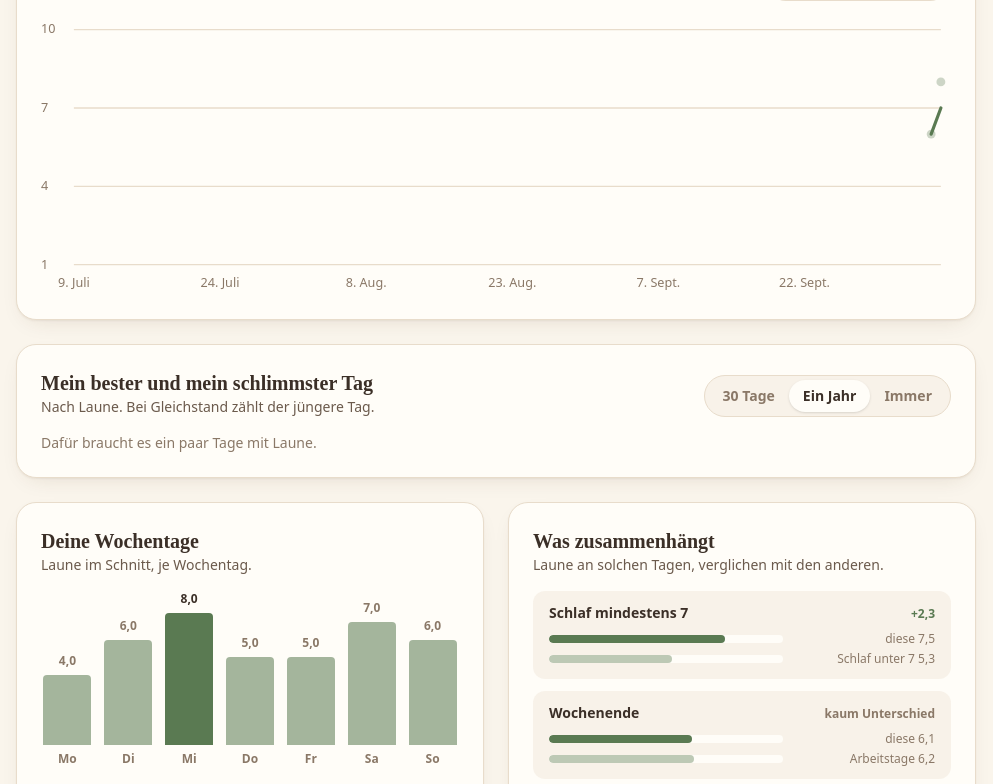
Scenario: the best and the worst day › shows both for the span asked, the younger tie being the server's business
(page scrolled)
Expected: the element that starts with "Mein bester und mein schlimmster Tag" shows "Dafür braucht es ein paar Tage mit Laune.", [41,433,317,452]
Click the radio button labelled "30 Tage" in the row of "Mein bester und mein schlimmster Tag" at [749, 396], box [709,380,789,412]
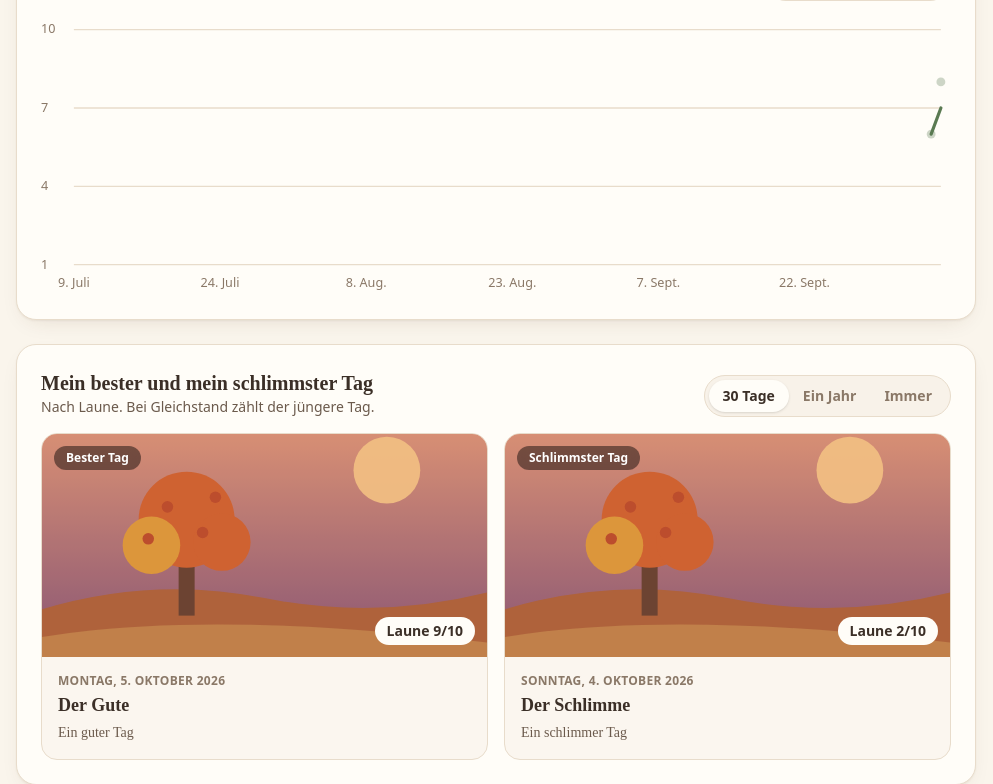
Expected: the link that starts with "Bester Tag" is shown, [41,433,488,760]
Expected: the link that starts with "Bester Tag" shows "Laune 9/10", [41,433,488,760]
Expected: the link that starts with "Bester Tag" shows "Der Gute", [41,433,488,760]
Click the radio button labelled "Immer" at [908, 396], box [870,380,946,412]
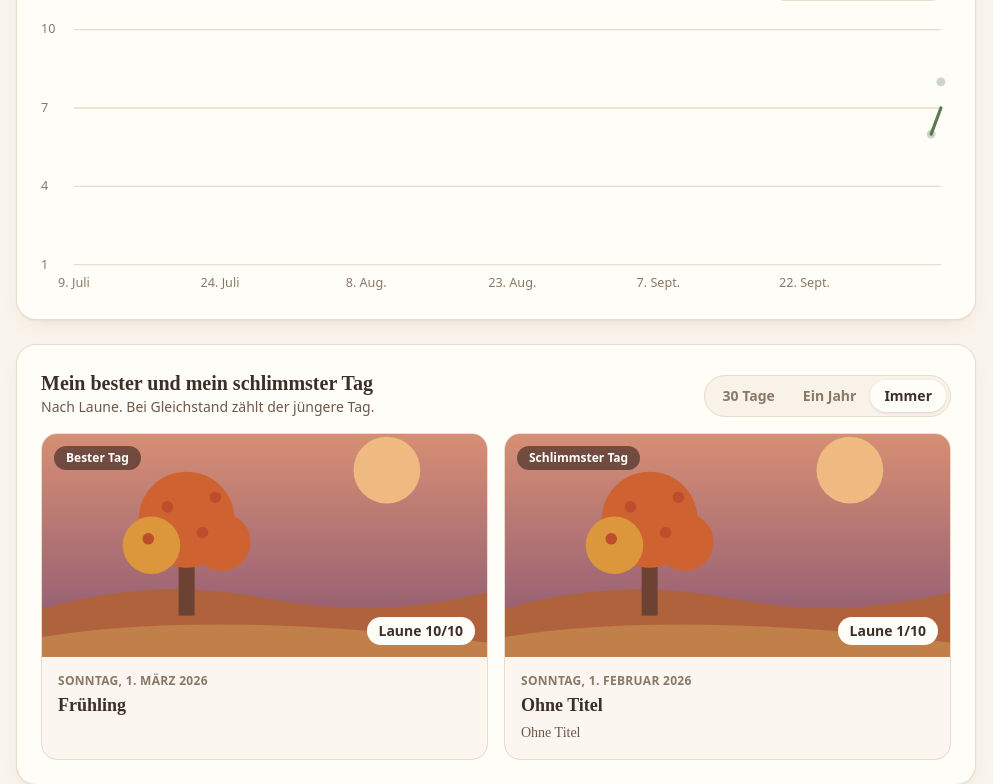
Expected: the link that starts with "Bester Tag" shows "Frühling", [41,433,488,760]
Expected: the link that starts with "Schlimmster Tag" shows "Ohne Titel", [504,433,951,760]
Expected: the link that starts with "Schlimmster Tag" shows "Laune 1/10", [504,433,951,760]
